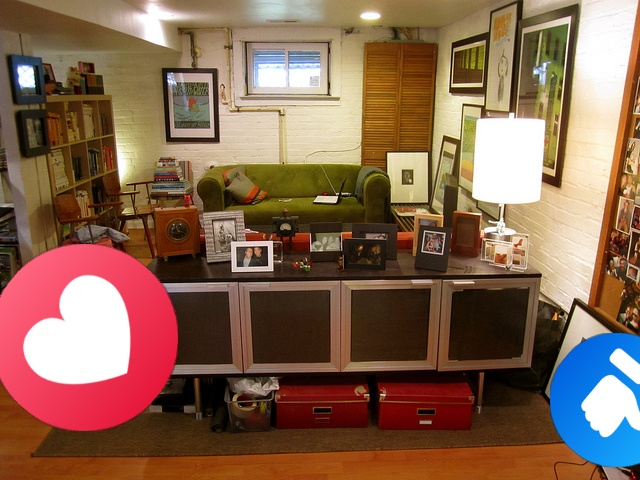like: (550, 333, 640, 467)
love: (0, 244, 178, 431)
